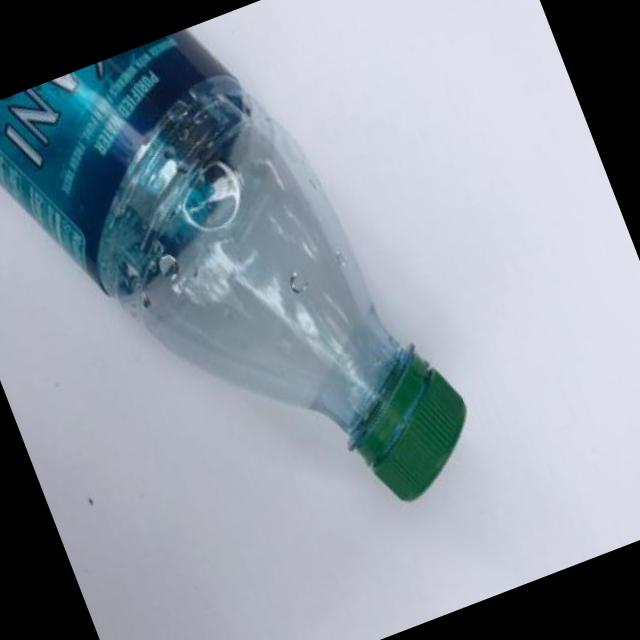BotolPlastik: (0, 0, 494, 613)
